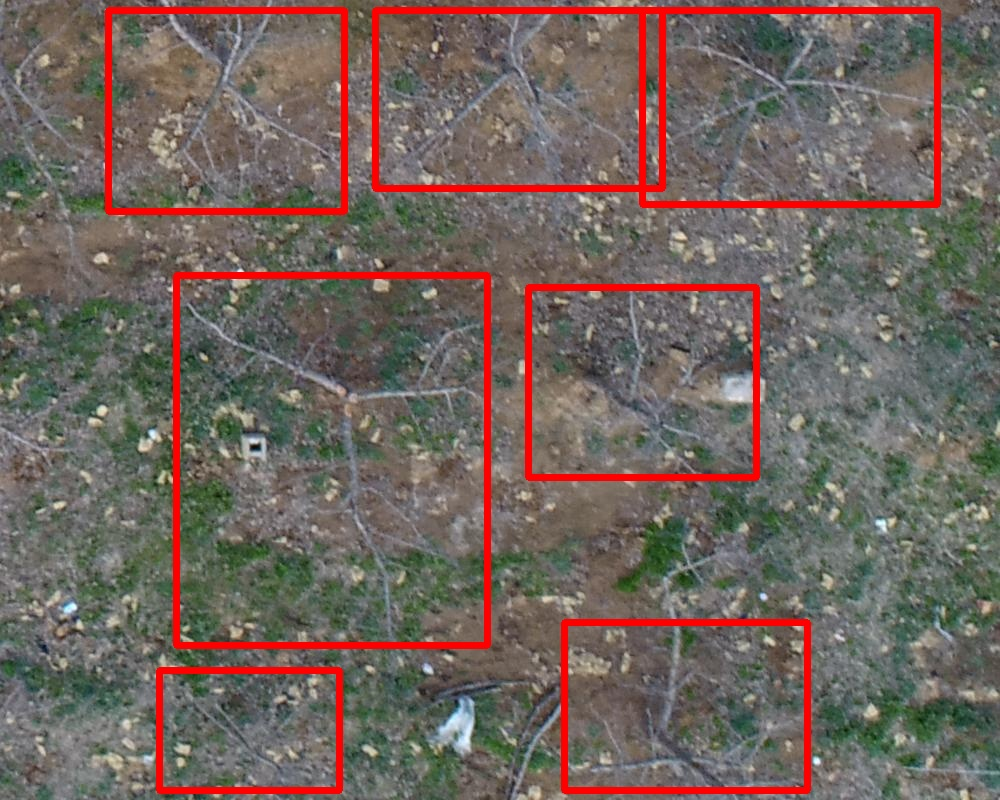apple: (176, 275, 487, 645), (642, 10, 937, 204), (375, 10, 662, 188), (108, 10, 344, 211), (528, 287, 756, 477), (564, 622, 807, 790), (159, 670, 339, 790)
